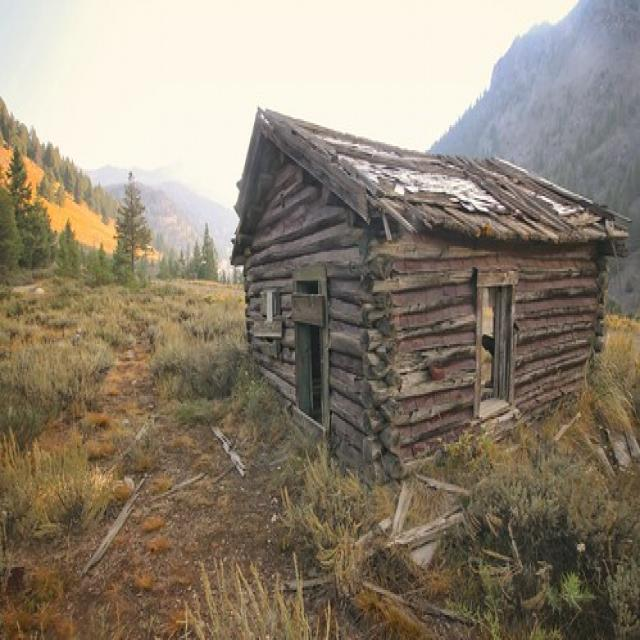Normal_building: (229, 85, 623, 493)
